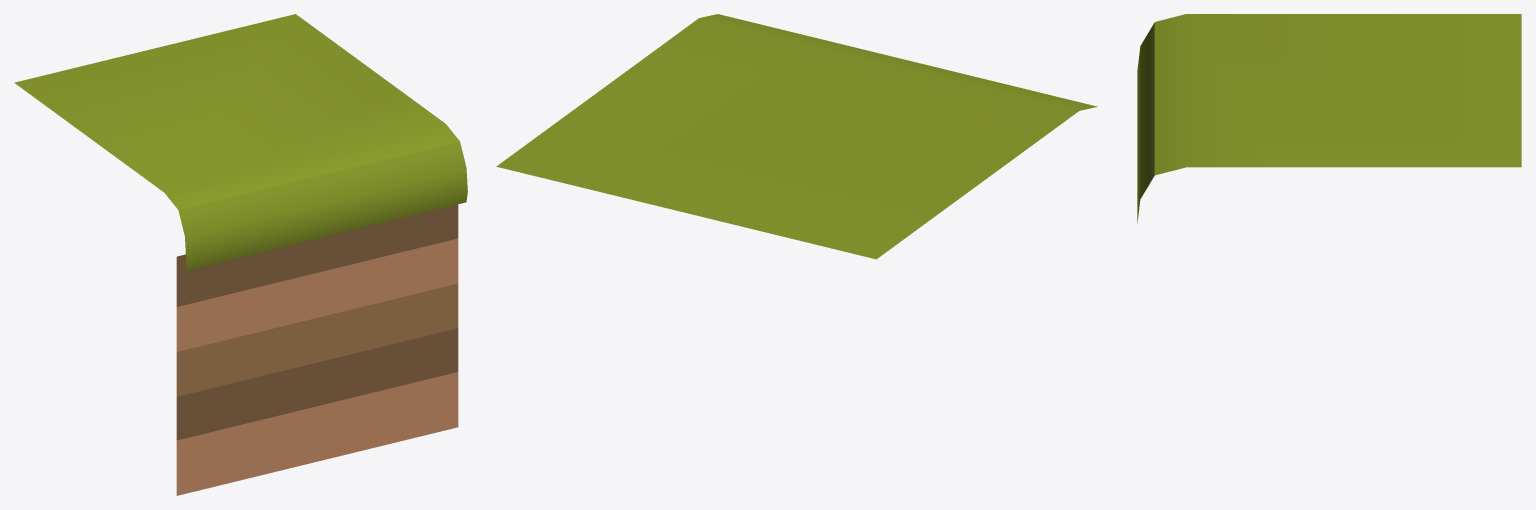
The model's file is quaternius-platformer-game-cube-grass-side-tall.glb.
The picture shows the model from 3 angles, left to right: view 1: azimuth 30°, elevation 25°; view 2: azimuth 150°, elevation 25°; view 3: azimuth 270°, elevation 25°; orthographic projection. The views are drawn at different scales.
Visible parts, largest first — view 1: Cube_Grass_Side_Tall; view 2: Cube_Grass_Side_Tall; view 3: Cube_Grass_Side_Tall.
Part boxes in pixels (left/top/right/bottom): Cube_Grass_Side_Tall: left=14, top=14, right=467, bottom=495; Cube_Grass_Side_Tall: left=496, top=14, right=1097, bottom=259; Cube_Grass_Side_Tall: left=1137, top=14, right=1521, bottom=223.
Bounding box in the file's own units: 2 × 2 × 2.12.
